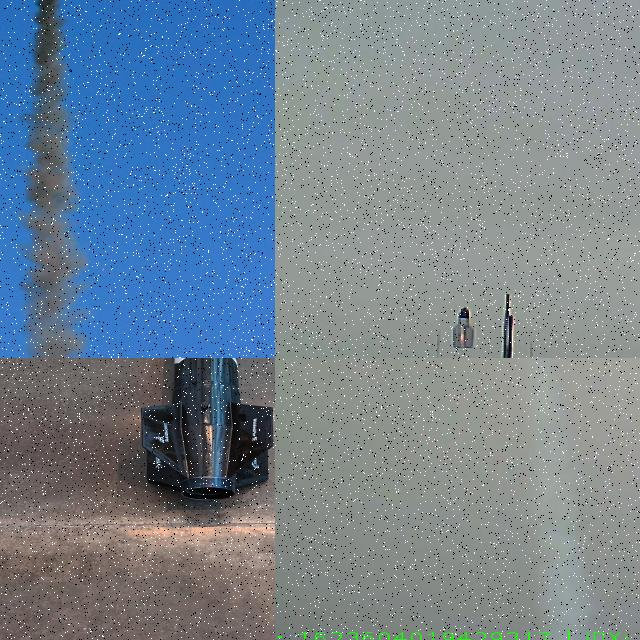Rocket: (141, 358, 274, 501), (452, 306, 476, 349)
